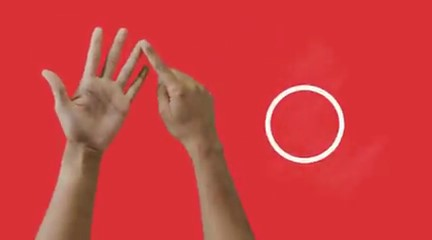O: (34, 15, 244, 155)
